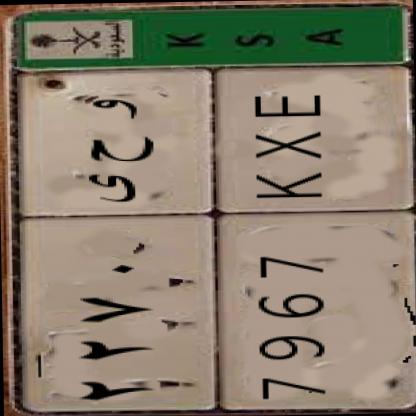english: (207, 62, 416, 409)
